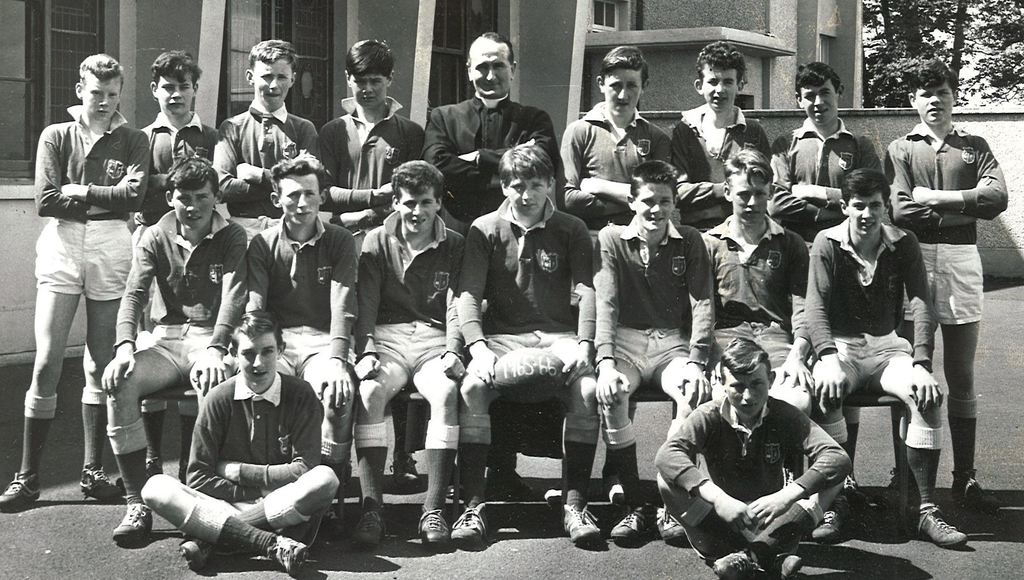Human_hand: (810, 360, 850, 415), (314, 362, 356, 413), (749, 491, 795, 533), (99, 349, 139, 397), (675, 363, 714, 410), (908, 366, 945, 415), (190, 354, 233, 396), (560, 344, 596, 390), (715, 493, 754, 534), (775, 358, 819, 394), (467, 348, 495, 388), (349, 354, 381, 385), (597, 365, 621, 402), (439, 351, 465, 385), (324, 211, 365, 229), (911, 183, 932, 207), (230, 164, 253, 185), (575, 173, 596, 193), (378, 181, 393, 204), (59, 183, 78, 201), (215, 457, 230, 479), (975, 172, 993, 190), (456, 151, 469, 162)
